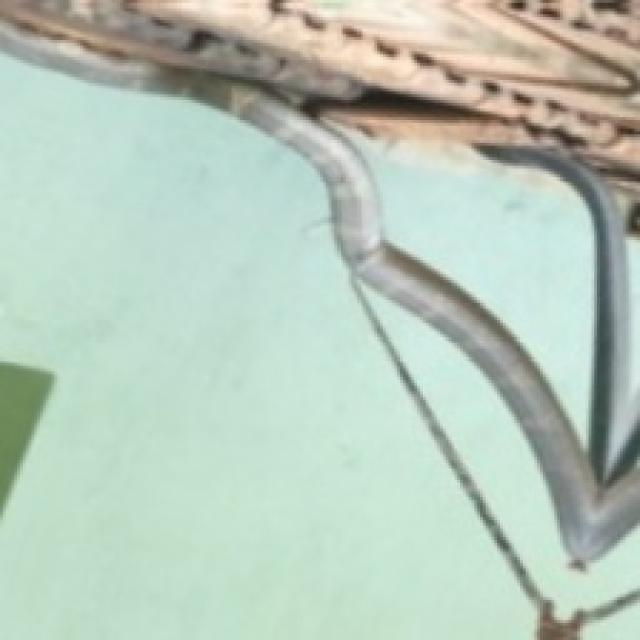king cobra: (0, 54, 534, 637), (366, 289, 637, 637), (346, 114, 591, 437)
